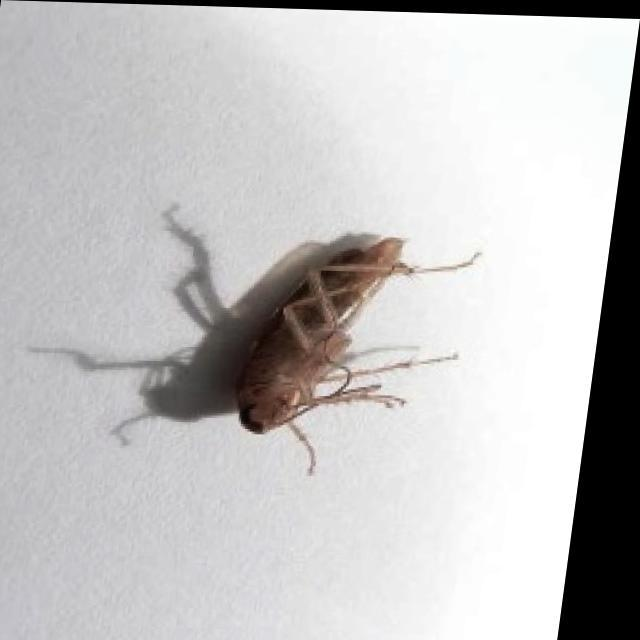cockroach: (214, 198, 496, 478)
